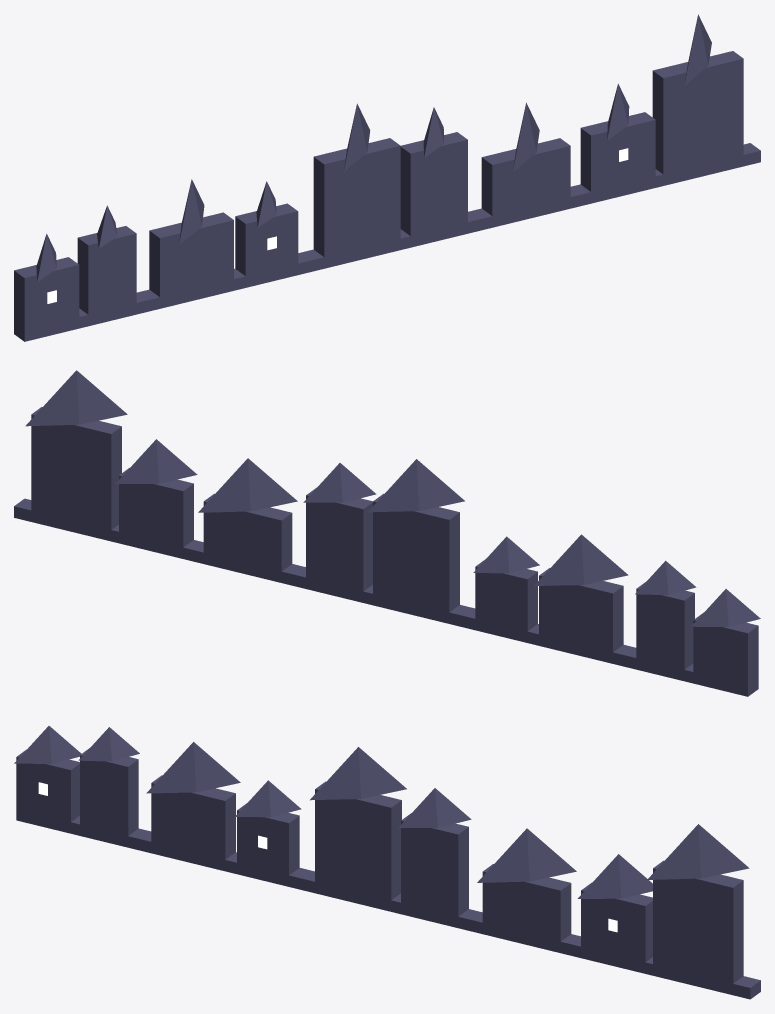
The model's file is BG_HousesFar.fbx.
The picture shows the model from 3 angles, top to bottom: view 1: azimuth 30°, elevation 25°; view 2: azimuth 150°, elevation 25°; view 3: azimuth 330°, elevation 25°; orthographic projection.
Parts seen in each view (by area): view 1: BG_HousesFar; view 2: BG_HousesFar; view 3: BG_HousesFar.
Boxes of the visible parts, x1,y1,x2,y2 form: BG_HousesFar: (14, 14, 760, 341); BG_HousesFar: (14, 370, 760, 696); BG_HousesFar: (14, 726, 760, 999).
Bounding box in the file's own units: 40 × 8.22 × 3.55.
